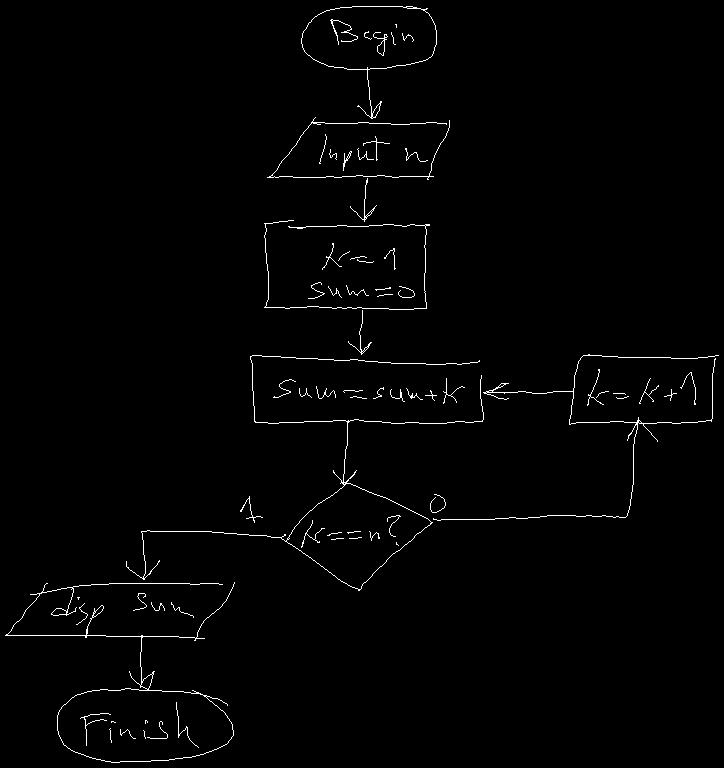arrow: (433, 417, 657, 520), (126, 530, 285, 579), (333, 420, 356, 485), (483, 383, 573, 399), (129, 635, 154, 689), (357, 67, 381, 118), (350, 178, 376, 221), (348, 310, 371, 354)
data: (5, 582, 234, 640), (267, 117, 449, 179)
decision: (279, 478, 432, 590)
process: (250, 355, 483, 423), (264, 220, 429, 309), (569, 354, 718, 424)
terminator: (57, 688, 233, 762), (301, 6, 436, 69)
text: (51, 588, 193, 637), (308, 243, 414, 298), (80, 702, 198, 747), (273, 378, 464, 403), (319, 134, 427, 170), (587, 369, 695, 405), (301, 515, 400, 547), (330, 19, 413, 55), (240, 496, 262, 522), (430, 494, 445, 512)
